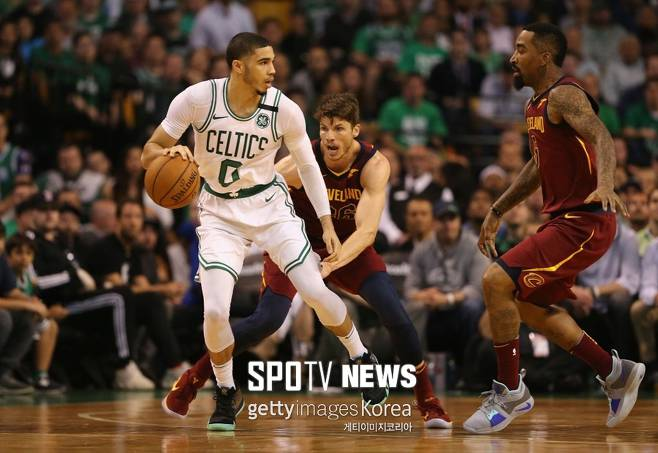ball: (144, 142, 208, 210)
defense: (472, 19, 655, 437), (286, 90, 448, 444)
stand: (132, 28, 386, 440)
